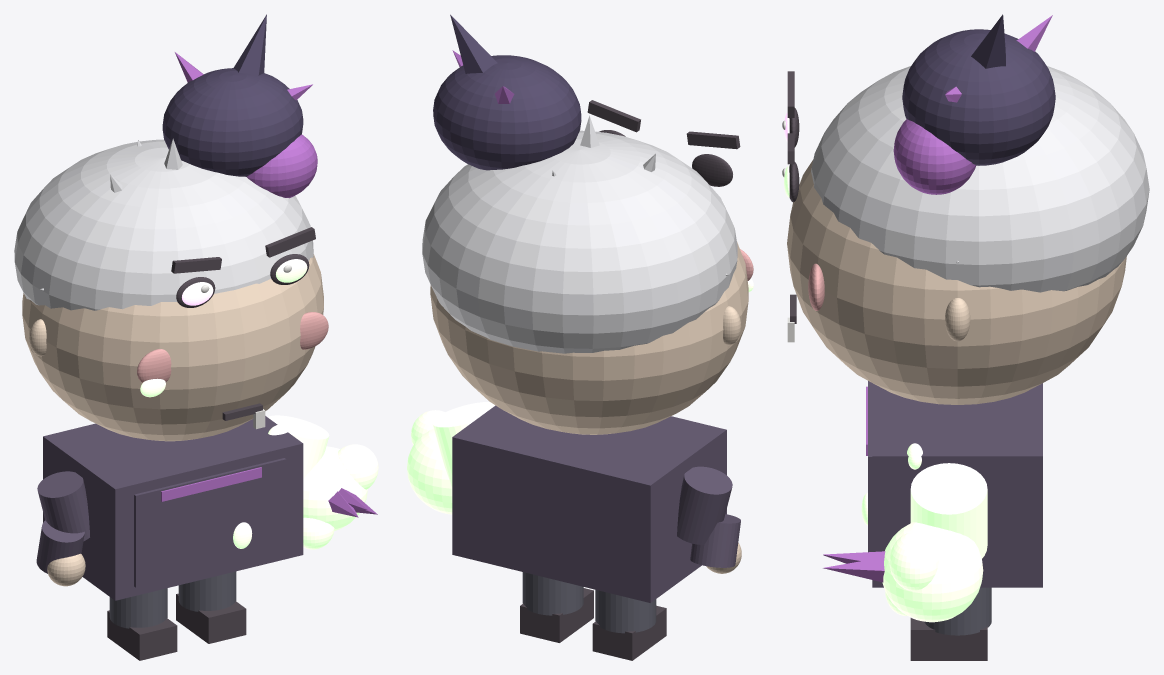
File: geneFreak.glb
The picture shows the model from 3 angles, left to right: view 1: azimuth 30°, elevation 25°; view 2: azimuth 150°, elevation 25°; view 3: azimuth 270°, elevation 25°; orthographic projection. The views are drawn at different scales.
Parts seen in each view (by area): view 1: HairCap, Head, Coat, CoatFront, MutMass, MutHand, UpperArm_L, MutMass2, Shoe_L, Shoe_R, Leg_L, Leg_R (+14 smaller); view 2: HairCap, Coat, Head, MutMass, UpperArm_L, MutHand, Leg_L, Leg_R, Shoe_L, Shoe_R, Forearm_L, MutArm (+6 smaller); view 3: HairCap, Head, Coat, MutMass, MutHand, MutArm, MutMass2, Shoe_R, MutBlob1, Leg_R, MutHorn, Ear_R (+3 smaller).
Boxes of the visible parts, bbox=[...] form: HairCap: bbox=[14, 139, 313, 310]; Head: bbox=[22, 254, 323, 441]; Coat: bbox=[43, 416, 303, 600]; CoatFront: bbox=[134, 458, 286, 587]; MutMass: bbox=[162, 68, 303, 176]; MutHand: bbox=[303, 446, 367, 530]; UpperArm_L: bbox=[37, 471, 89, 541]; MutMass2: bbox=[246, 134, 317, 198]; Shoe_L: bbox=[107, 610, 177, 660]; Shoe_R: bbox=[176, 593, 246, 643]; Leg_L: bbox=[109, 588, 167, 628]; Leg_R: bbox=[178, 571, 236, 611]; HairCap: bbox=[422, 130, 737, 353]; Coat: bbox=[452, 405, 726, 602]; Head: bbox=[430, 242, 748, 434]; MutMass: bbox=[433, 55, 581, 170]; UpperArm_L: bbox=[677, 466, 732, 544]; MutHand: bbox=[407, 428, 452, 514]; Leg_L: bbox=[595, 590, 656, 633]; Leg_R: bbox=[522, 572, 583, 615]; Shoe_L: bbox=[592, 605, 666, 660]; Shoe_R: bbox=[520, 588, 593, 642]; Forearm_L: bbox=[690, 514, 740, 567]; MutArm: bbox=[432, 402, 495, 489]; HairCap: bbox=[811, 66, 1149, 292]; Head: bbox=[787, 160, 1126, 404]; Coat: bbox=[872, 383, 1042, 587]; MutMass: bbox=[902, 29, 1055, 165]; MutHand: bbox=[882, 522, 983, 622]; MutArm: bbox=[910, 463, 987, 558]; MutMass2: bbox=[893, 119, 975, 194]; Shoe_R: bbox=[910, 618, 987, 660]; MutBlob1: bbox=[889, 532, 938, 590]; Leg_R: bbox=[924, 587, 991, 635]; MutHorn: bbox=[971, 14, 1005, 68]; Ear_R: bbox=[945, 298, 970, 341].
Size of the model in its own units: 1.17 by 1.97 by 0.9619.
